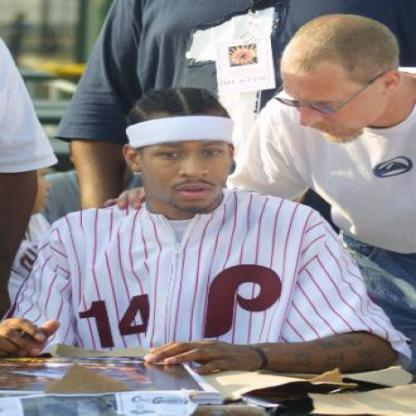face: (136, 100, 234, 213), (280, 46, 391, 141)
